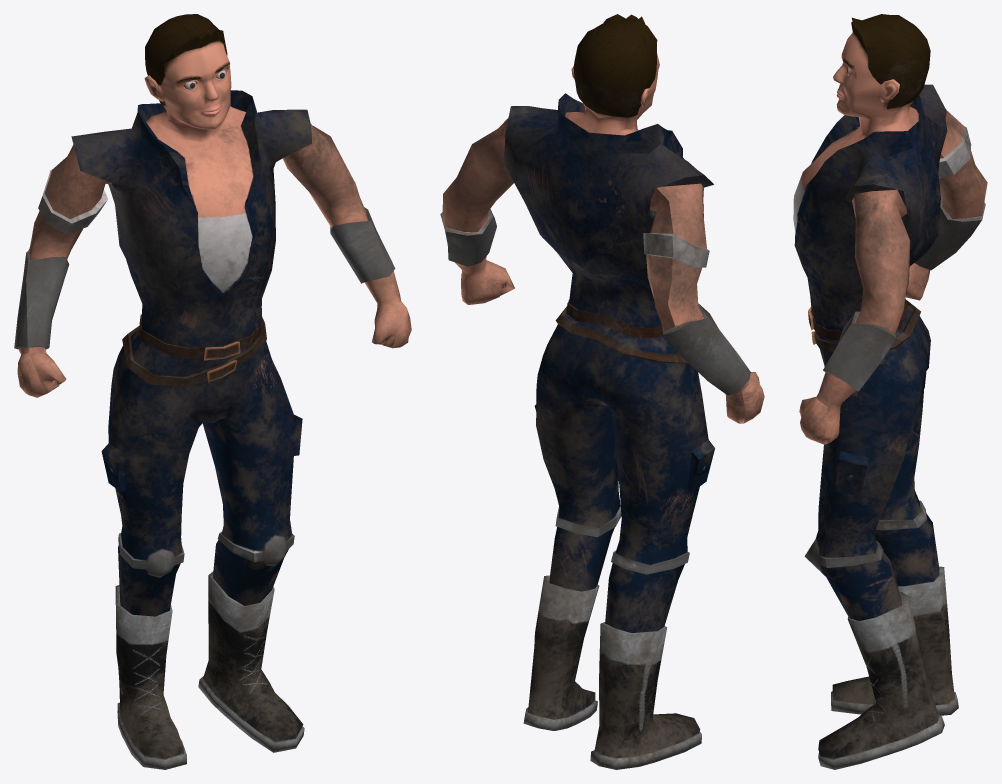
File: Anim_ataque_d1_jugador.0032.obj
3 renders of one model, left to right at view 1: azimuth 30°, elevation 25°; view 2: azimuth 150°, elevation 25°; view 3: azimuth 270°, elevation 25°, orthographic.
Visible parts, largest first — view 1: polySurface1; view 2: polySurface1; view 3: polySurface1.
Part boxes in pixels (<box>): polySurface1: <box>14,14,411,769</box>; polySurface1: <box>440,14,764,769</box>; polySurface1: <box>793,14,987,769</box>.
Size of the model in its own units: 4.8 by 9.71 by 2.4.
